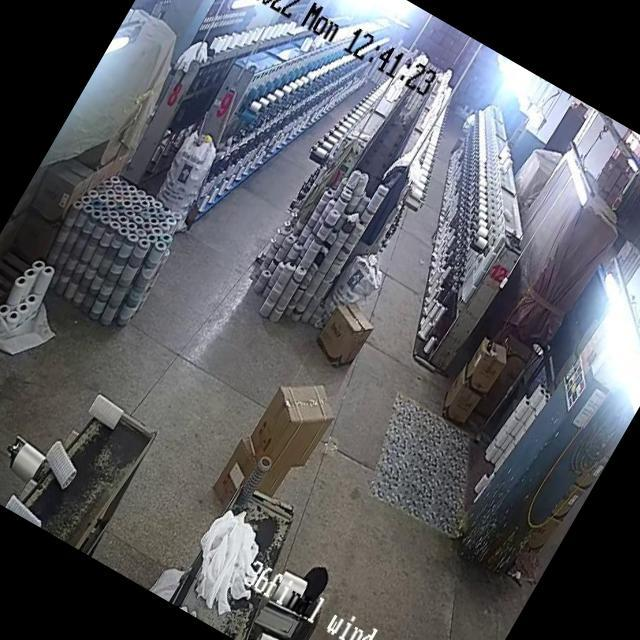person: (270, 558, 349, 640)
